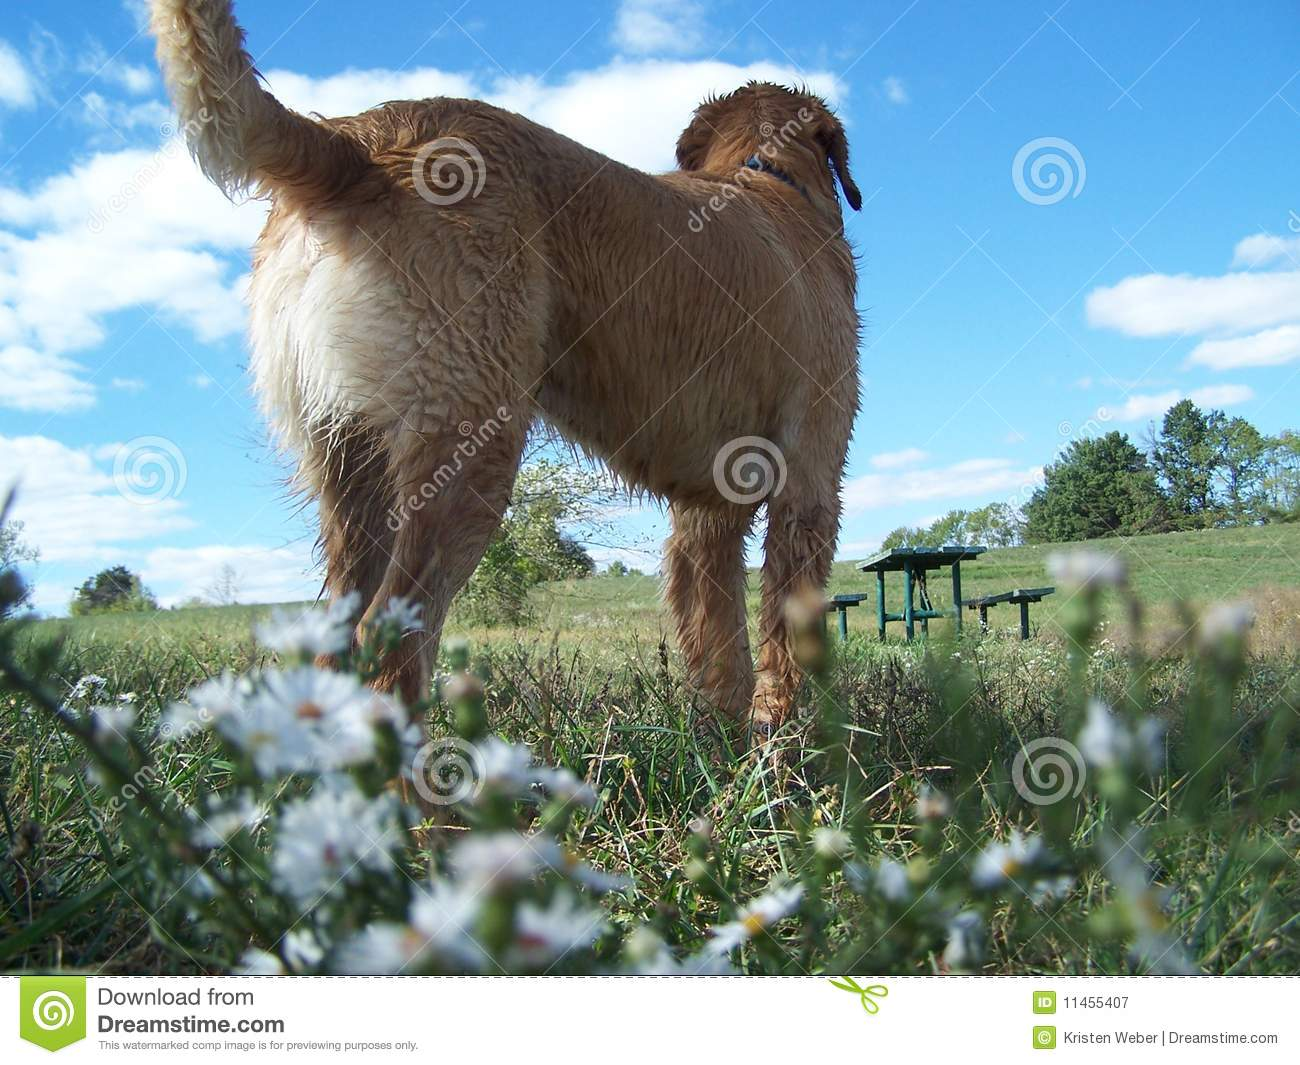dog: (143, 4, 865, 755)
